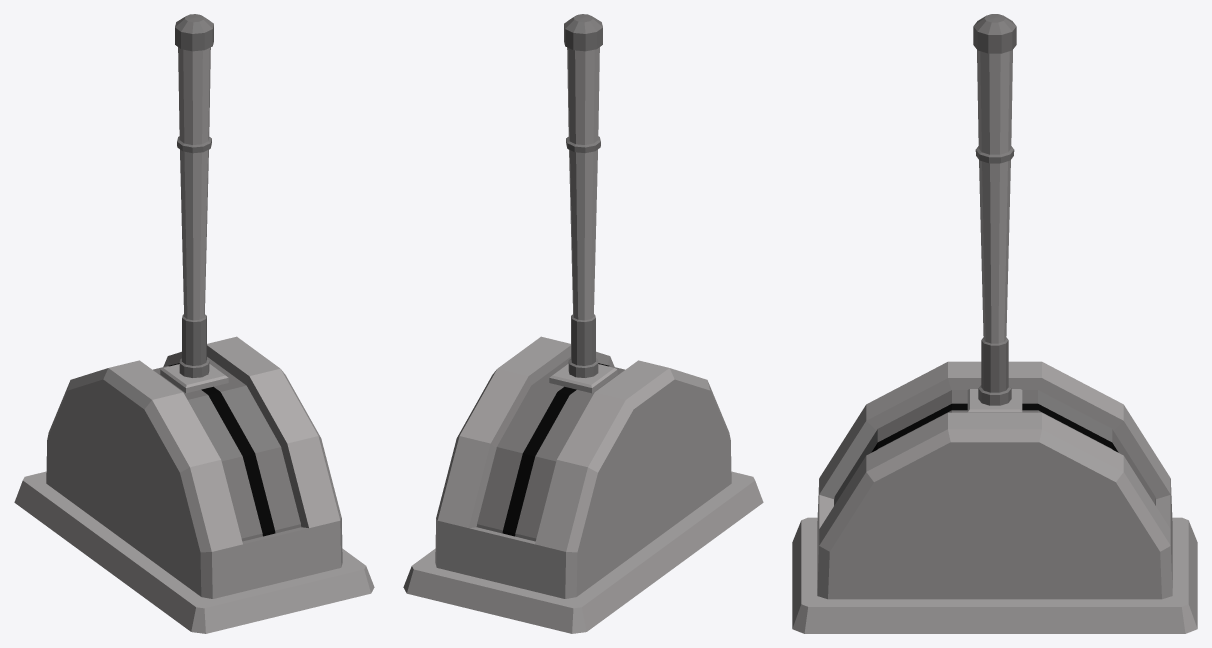
File: MetalFloorLever_1.fbx
The picture shows the model from 3 angles, left to right: view 1: azimuth 30°, elevation 25°; view 2: azimuth 150°, elevation 25°; view 3: azimuth 270°, elevation 25°; orthographic projection. The views are drawn at different scales.
Parts seen in each view (by area): view 1: MetalFloorLever_1_Casing, MetalFloorLever_1_Handle; view 2: MetalFloorLever_1_Casing, MetalFloorLever_1_Handle; view 3: MetalFloorLever_1_Casing, MetalFloorLever_1_Handle.
Part boxes in pixels (x1,y1,x2,y2): MetalFloorLever_1_Casing: (14,336,374,633); MetalFloorLever_1_Handle: (160,14,228,393); MetalFloorLever_1_Casing: (403,336,763,633); MetalFloorLever_1_Handle: (549,14,617,393); MetalFloorLever_1_Casing: (792,361,1197,633); MetalFloorLever_1_Handle: (967,14,1022,412).
Size of the model in its own units: 30.23 by 83.06 by 53.71.
